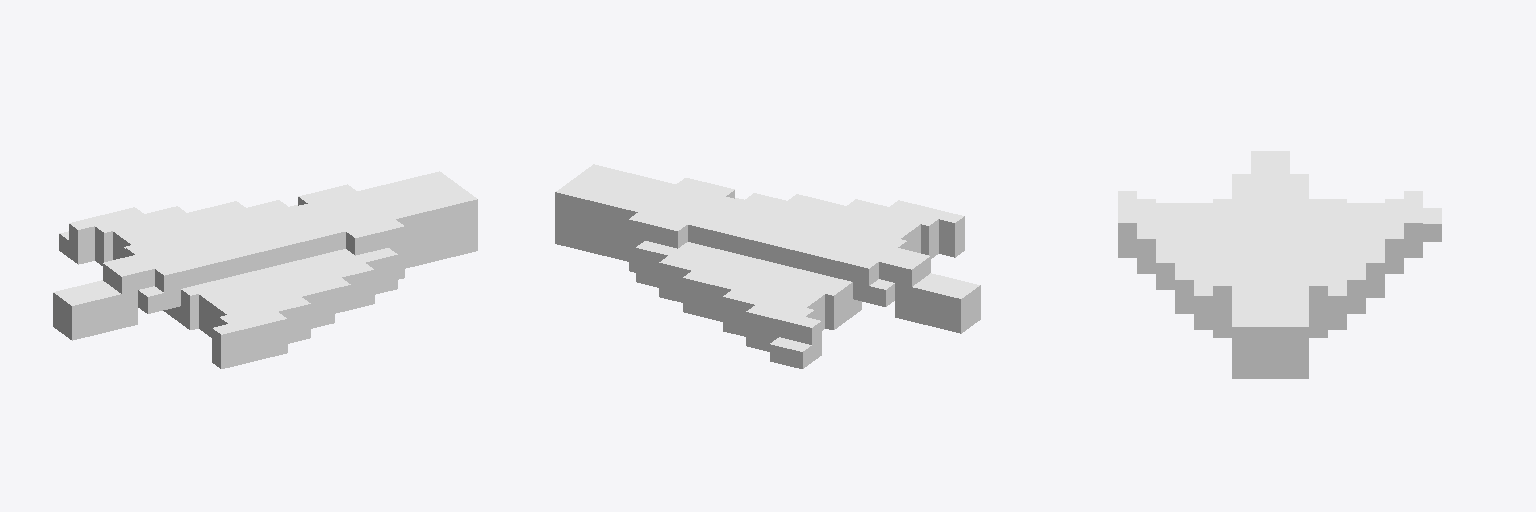
Rendered from foot2.obj.
3 renders of one model, left to right at view 1: azimuth 30°, elevation 25°; view 2: azimuth 150°, elevation 25°; view 3: azimuth 270°, elevation 25°, orthographic.
Visible parts, largest first — view 1: object 1; view 2: object 1; view 3: object 1.
Boxes of the visible parts, <box> form: object 1: <box>53,171,477,368</box>; object 1: <box>555,164,980,368</box>; object 1: <box>1118,151,1441,378</box>.
Size of the model in its own units: 4.8 by 0.6 by 3.4.